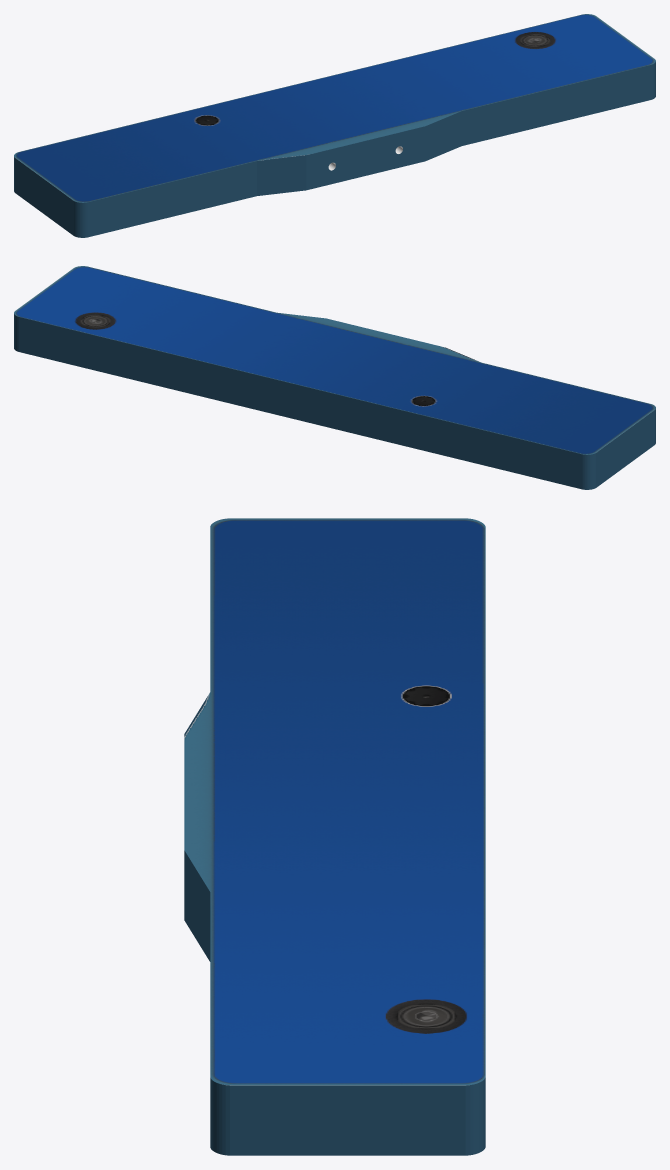
3 renders of one model, top to bottom at view 1: azimuth 30°, elevation 25°; view 2: azimuth 150°, elevation 25°; view 3: azimuth 270°, elevation 25°, orthographic. The views are drawn at different scales.
Parts seen in each view (by area): view 1: SketchUp (×2); view 2: SketchUp (×2); view 3: SketchUp (×2).
Part boxes in pixels (x1,y1,x2,y2): SketchUp (×2): (14, 14, 655, 237); SketchUp (×2): (14, 266, 655, 489); SketchUp (×2): (184, 518, 485, 1155).
Bounding box in the file's own units: 6.14 × 1.38 × 0.3543.
3 materials, 1 textured.
